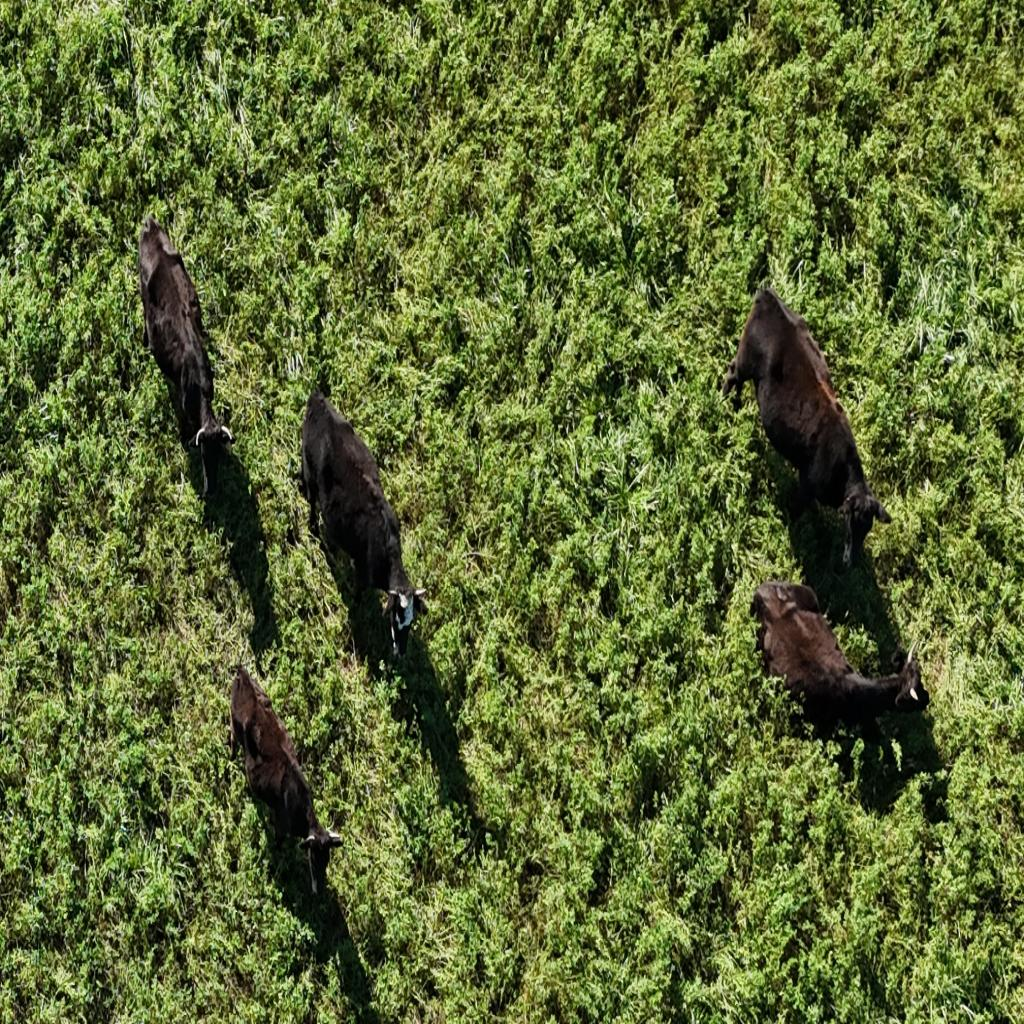cow: (716, 280, 895, 572), (300, 388, 428, 656), (227, 664, 347, 900), (749, 577, 928, 734), (134, 216, 231, 500)
